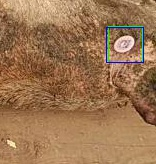text: (108, 26, 142, 62)
